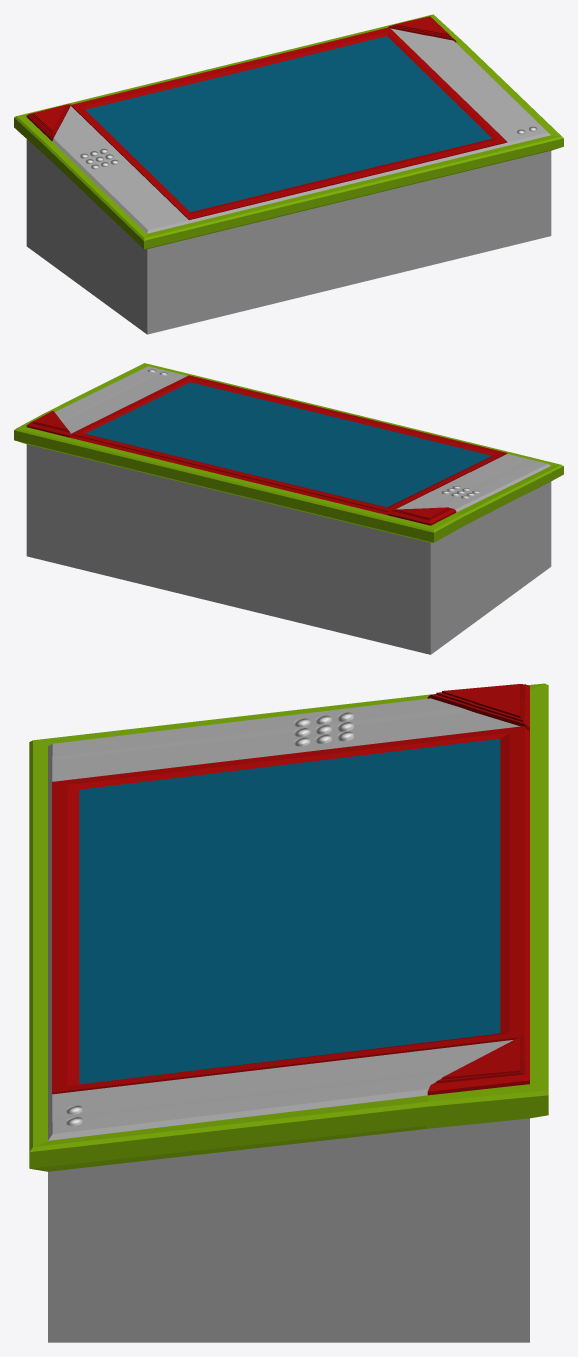
The model's file is RoundedTable_New_0002.fbx.
The picture shows the model from 3 angles, top to bottom: view 1: azimuth 30°, elevation 25°; view 2: azimuth 150°, elevation 25°; view 3: azimuth 270°, elevation 25°; orthographic projection. The views are drawn at different scales.
Parts seen in each view (by area): view 1: polySurface2; view 2: polySurface2; view 3: polySurface2.
Boxes of the visible parts, left/top/right/bottom form: polySurface2: left=14, top=14, right=563, bottom=334; polySurface2: left=14, top=363, right=563, bottom=654; polySurface2: left=29, top=683, right=548, bottom=1342.
Size of the model in its own units: 994 by 304 by 532.
